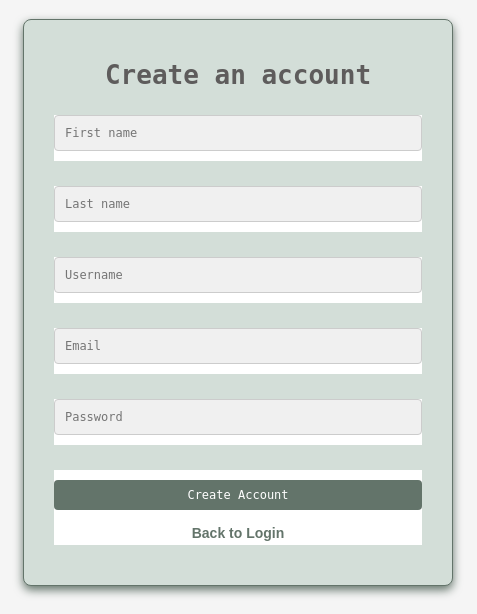
Test: Account Creation Tests › should display email format error
In the field named "email": coordinates (238, 346) [54, 328, 422, 364], type "invalid-email"
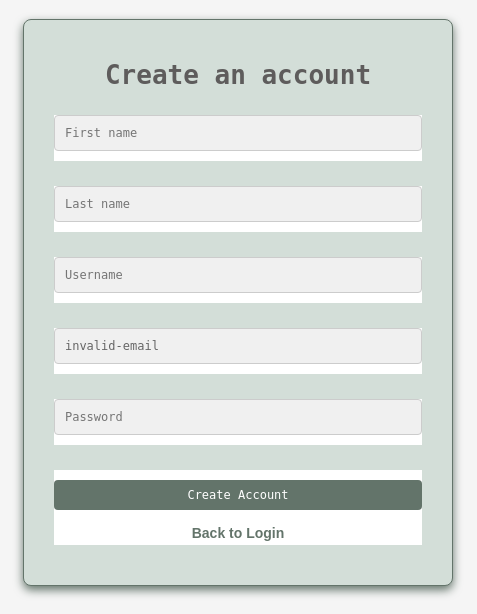
Click the submit button: coordinates (238, 495) [54, 480, 422, 510]
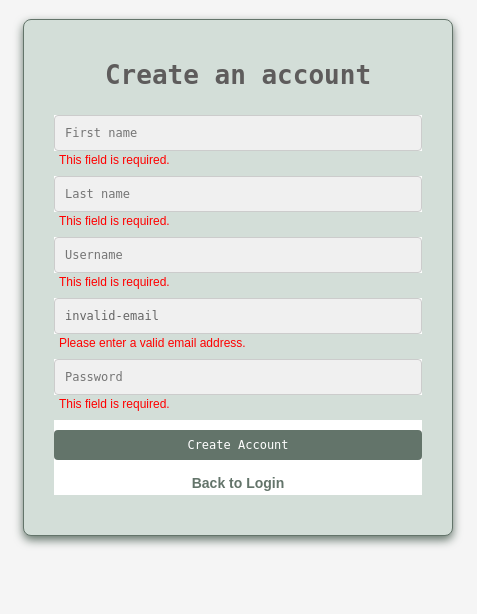
Now the text "Please enter a valid email address." is shown, box [59, 336, 246, 350]
